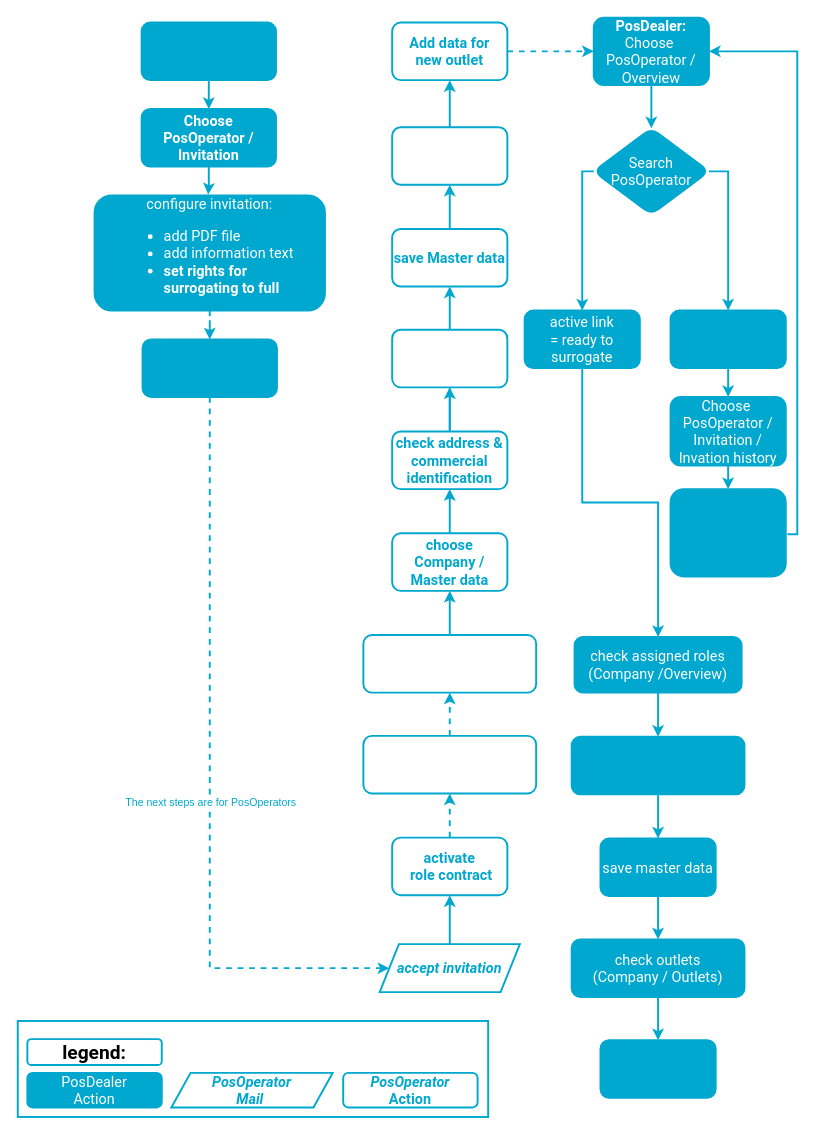
The diagram is 822 pixels wide and 1134 high, and some of its shapes have lost their labels. The centre of each missing label's shape, as x and y in pixels:
Assign PosOperators: point (209, 367)
check completeness and Validation of master data (company / master data): point (657, 765)
check validation of commercial identification: point (449, 358)
Choose Company / Outlets: point (449, 155)
do not Assign further roles (Company /Overview): point (449, 764)
do not reduce authorizations (Company /Employee): point (449, 663)
inactive link: point (727, 339)
PosDealer: Open fiskaltrust.Portal: point (208, 51)
Repeat E-mail or copy link & send invitation by another Sender: point (727, 532)
switch to your account: point (657, 1068)
